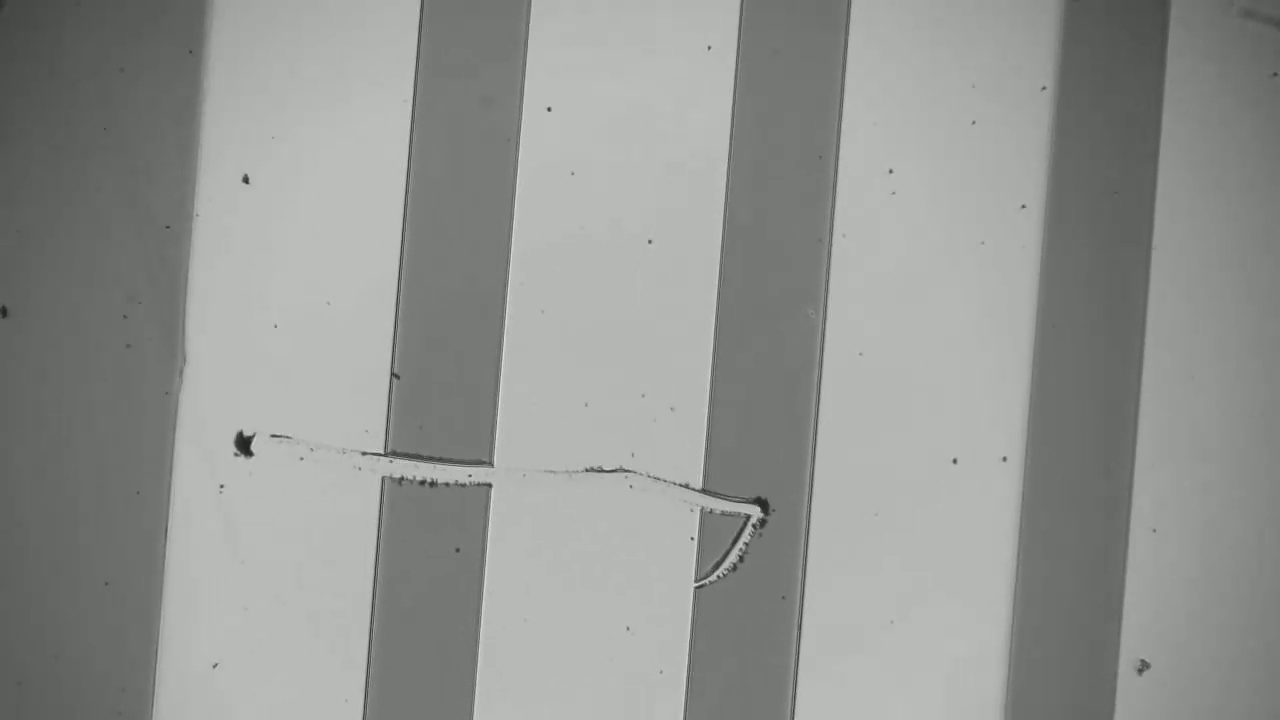Short_circuit: (345, 442, 522, 503), (683, 468, 822, 536)
